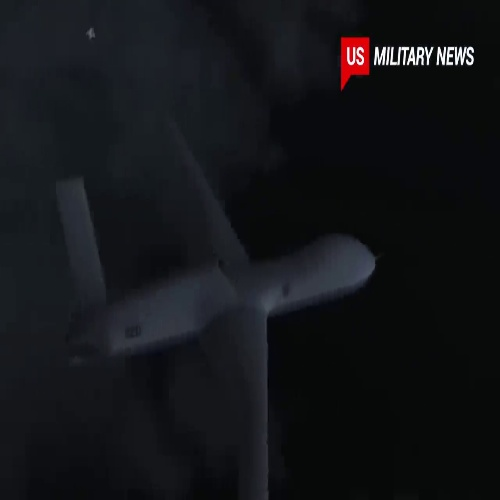uav560: (52, 127, 380, 500)
